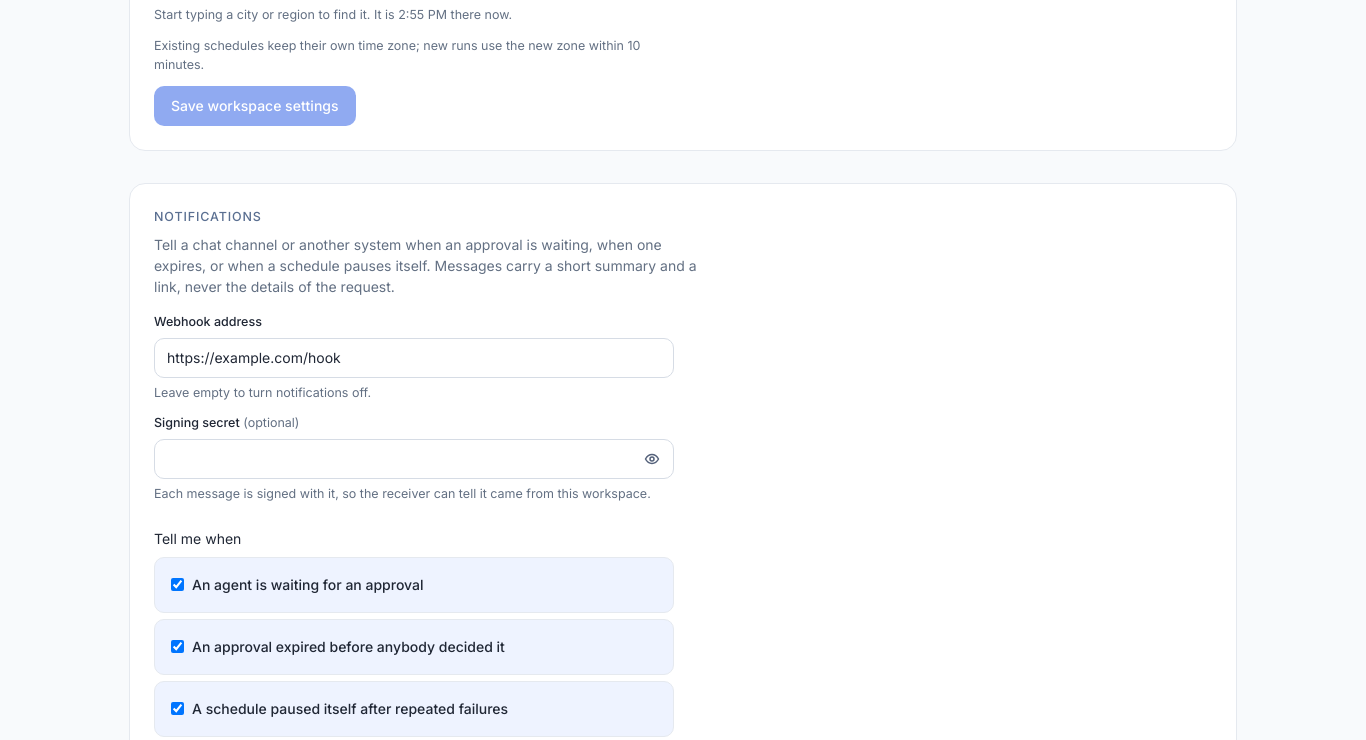
Test: notifications › sends the test message only once there is a saved address and nothing unsaved beside it
(page scrolled)
Replace the text in the field labelled "Webhook address" with "https://example.com/other" at (414, 358), box [154,338,674,378]
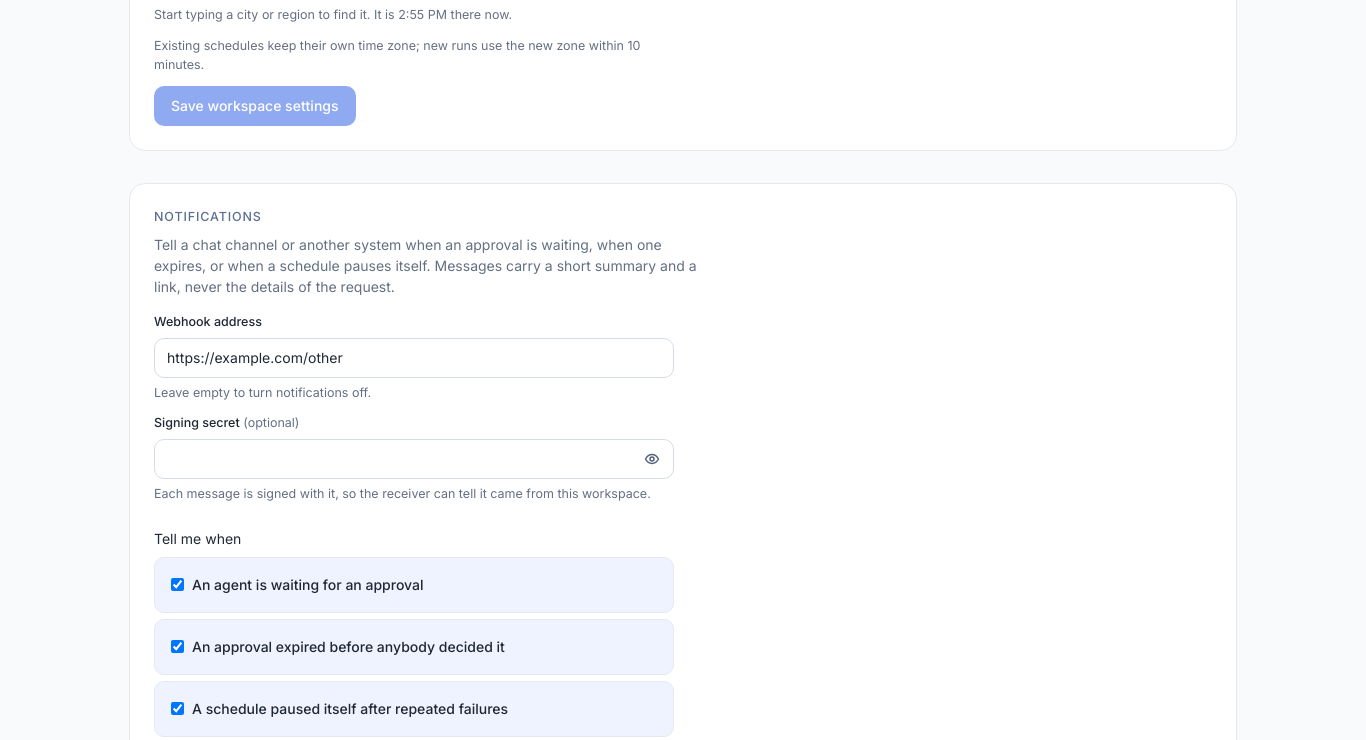
Replace the text in the field labelled "Webhook address" with "https://example.com/hook" at (414, 358), box [154,338,674,378]
(page scrolled)
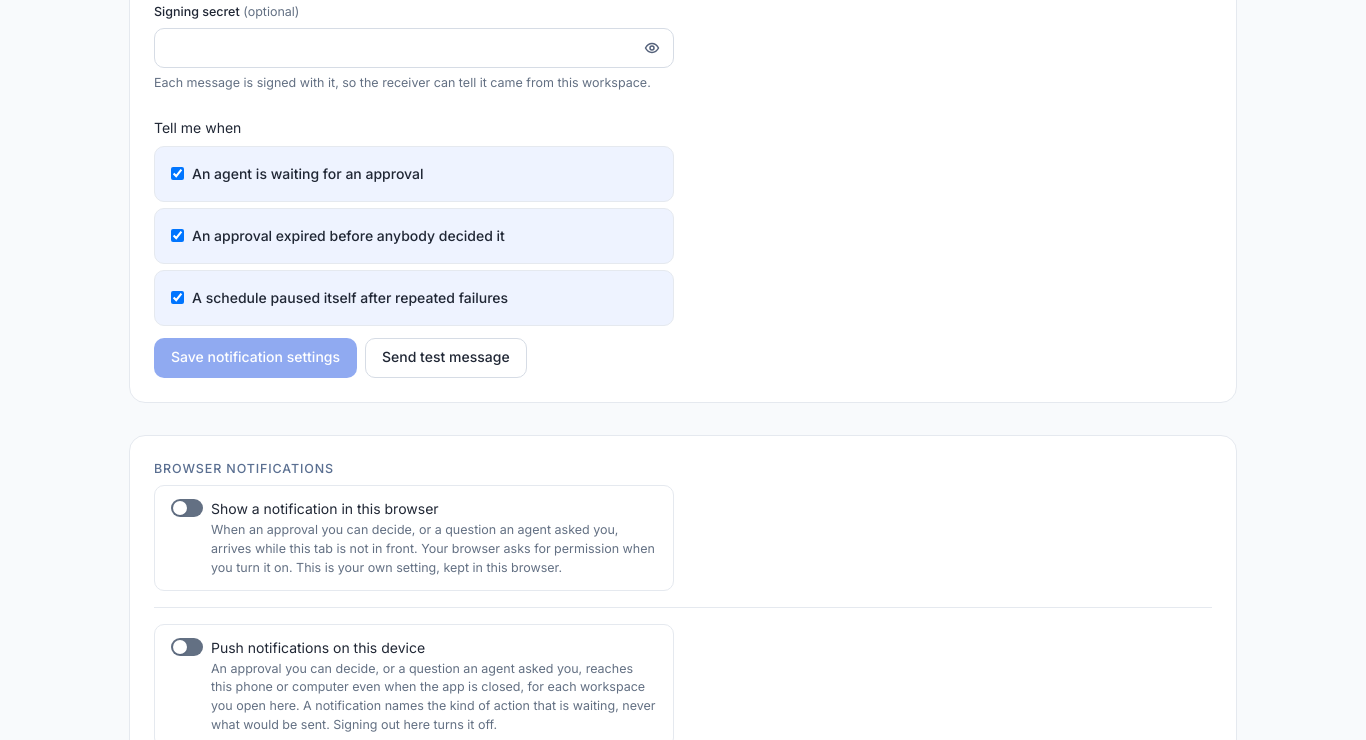
Now the button "Send test message" is enabled
Click the button "Send test message" at (446, 358), box [365,338,527,378]
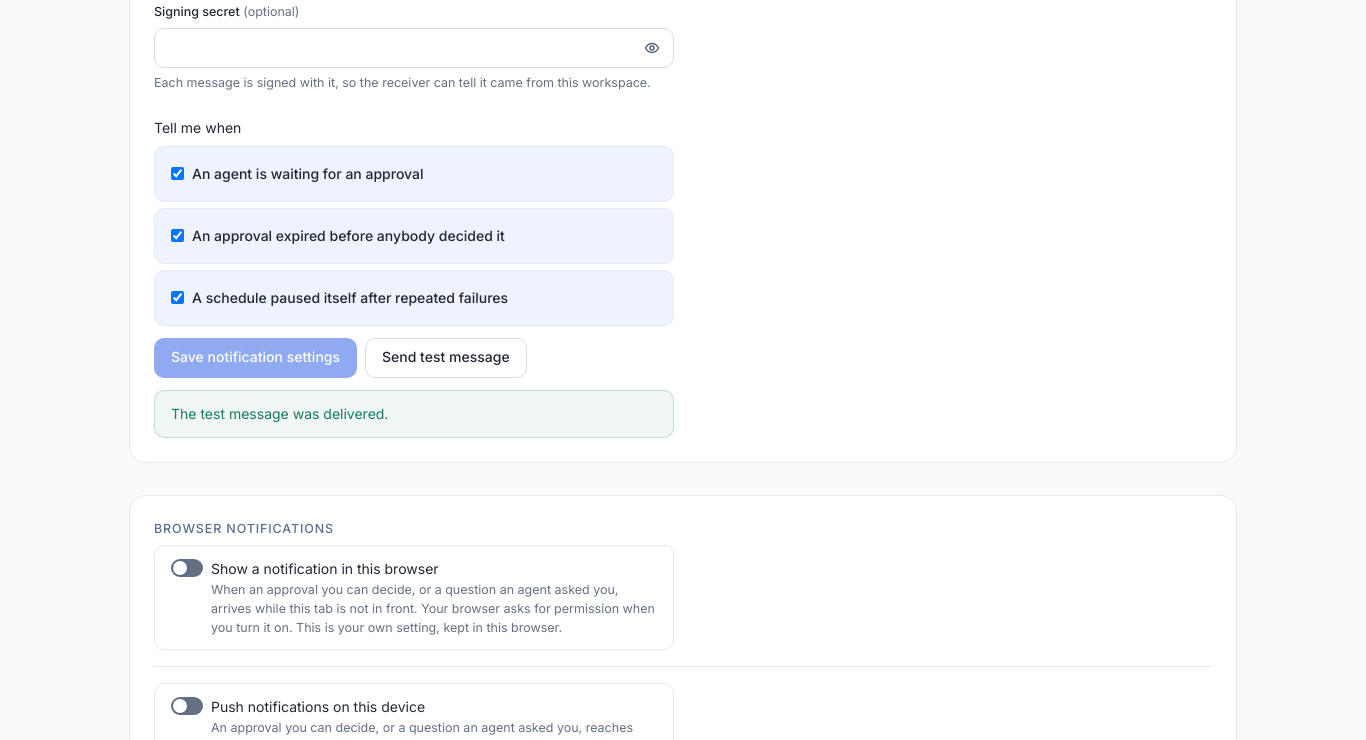
Now the text "The test message was delivered." is shown, box [171,405,388,422]
